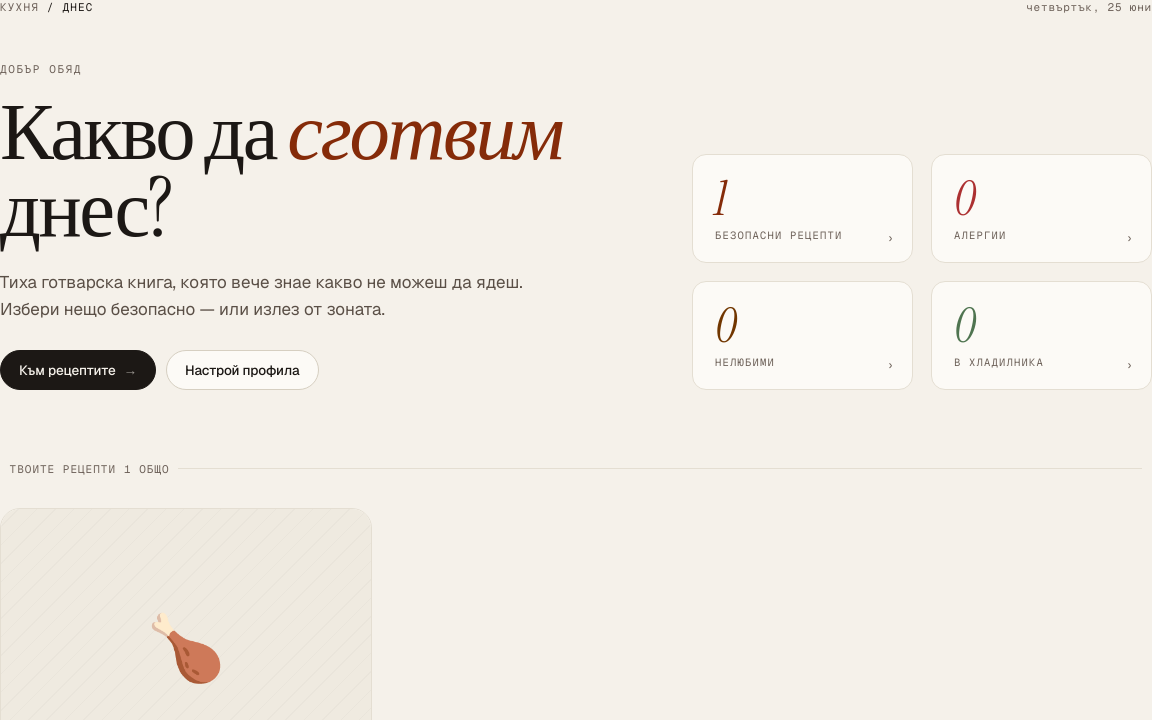
HomeScreen – stat card modals › safe recipes modal lists safe recipes by name
This screenshot has width=1152, height=720.
Click the text "безопасни рецепти". click: (779, 235)
box: [715, 228, 842, 242]
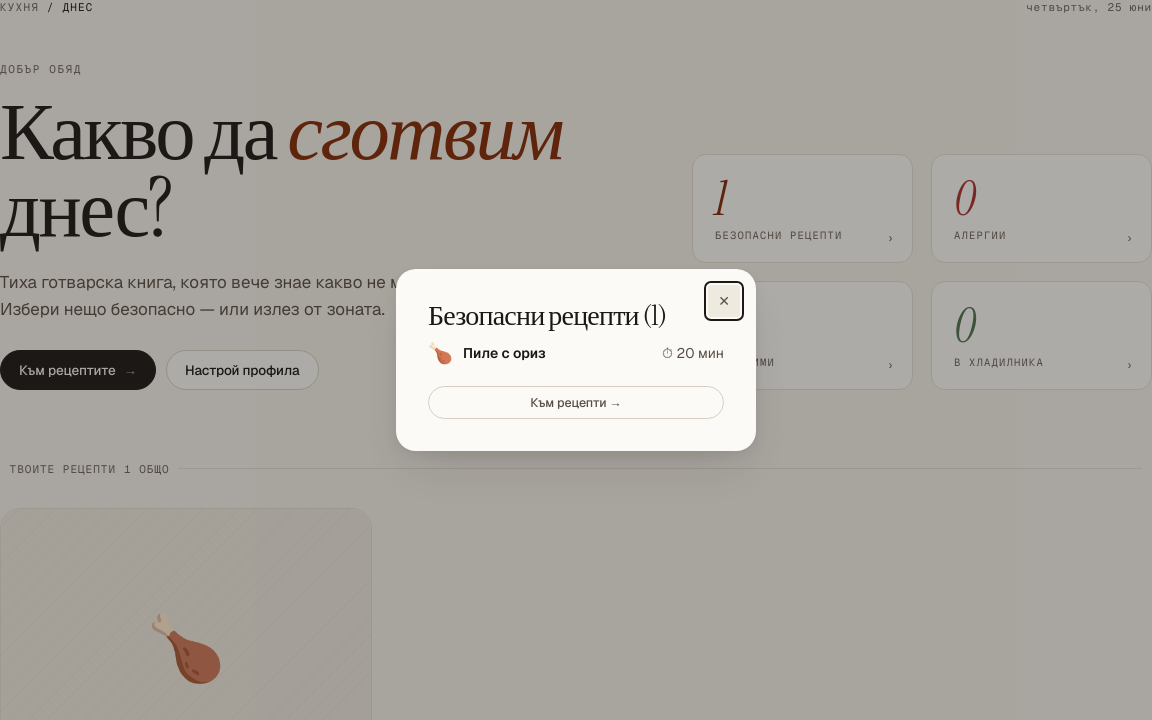
Check: the text "Пиле с ориз" is shown, box [463, 344, 546, 362]
